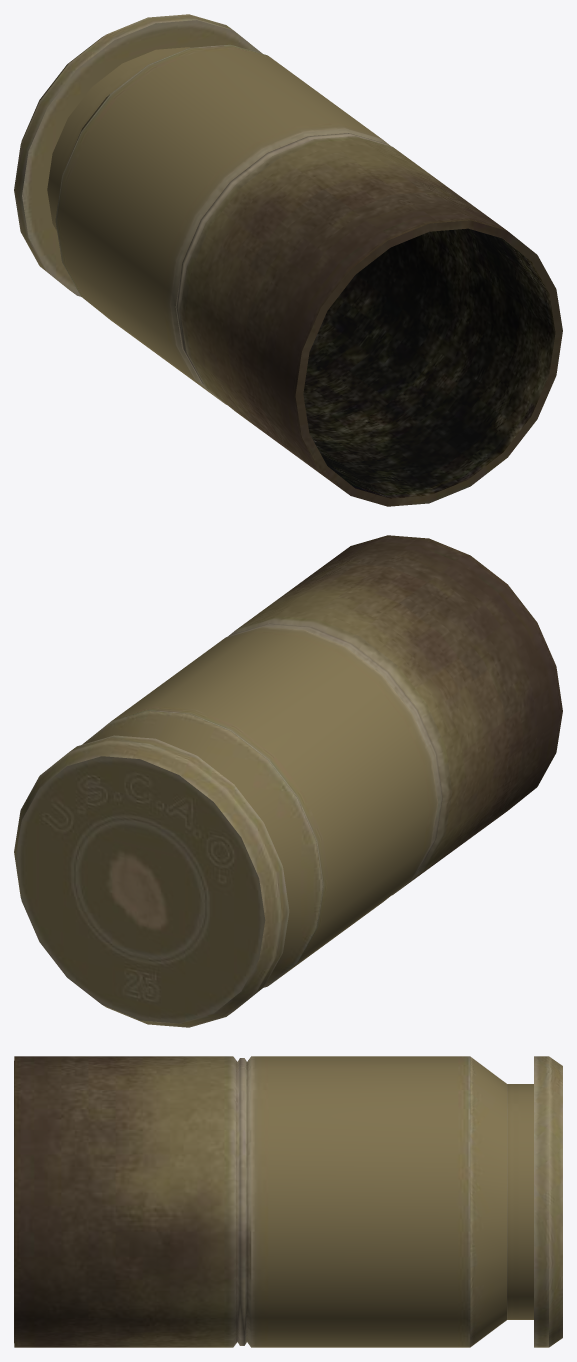
The model's file is m1911_casing.glb.
3 views of the same model, one above another, from view 1: azimuth 30°, elevation 25°; view 2: azimuth 150°, elevation 25°; view 3: azimuth 270°, elevation 25° (orthographic). The views are drawn at different scales.
Parts seen in each view (by area): view 1: Casing; view 2: Casing; view 3: Casing.
Part boxes in pixels (x1,y1,x2,y2): Casing: [14, 14, 562, 506]; Casing: [14, 535, 562, 1027]; Casing: [14, 1056, 562, 1347].
Size of the model in its own units: 0.0123 by 0.0123 by 0.023.
Materials: 1 (1 with a texture image).
